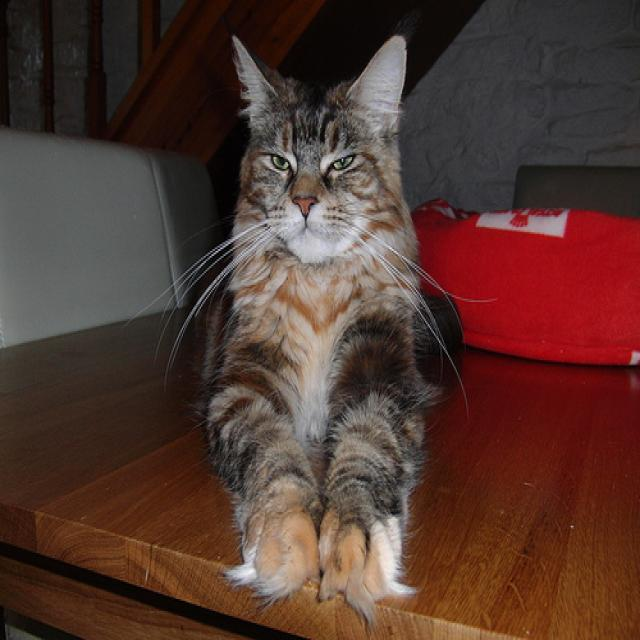cat: (230, 34, 406, 260)
